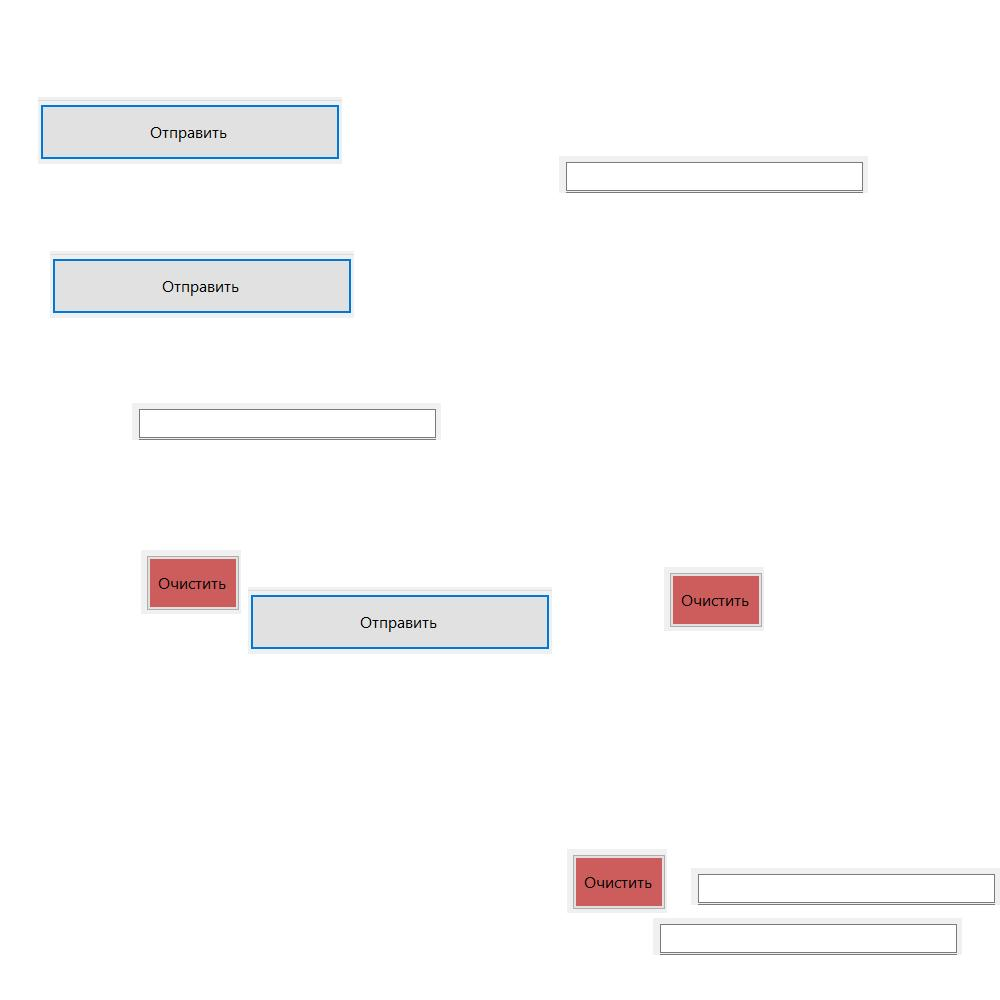Button: (38, 97, 342, 164), (248, 587, 552, 654), (50, 251, 354, 318), (567, 849, 667, 913), (141, 550, 241, 614), (664, 567, 764, 631)
EditText-: (132, 403, 441, 440), (691, 868, 1000, 905), (559, 156, 868, 193), (653, 918, 962, 955)
